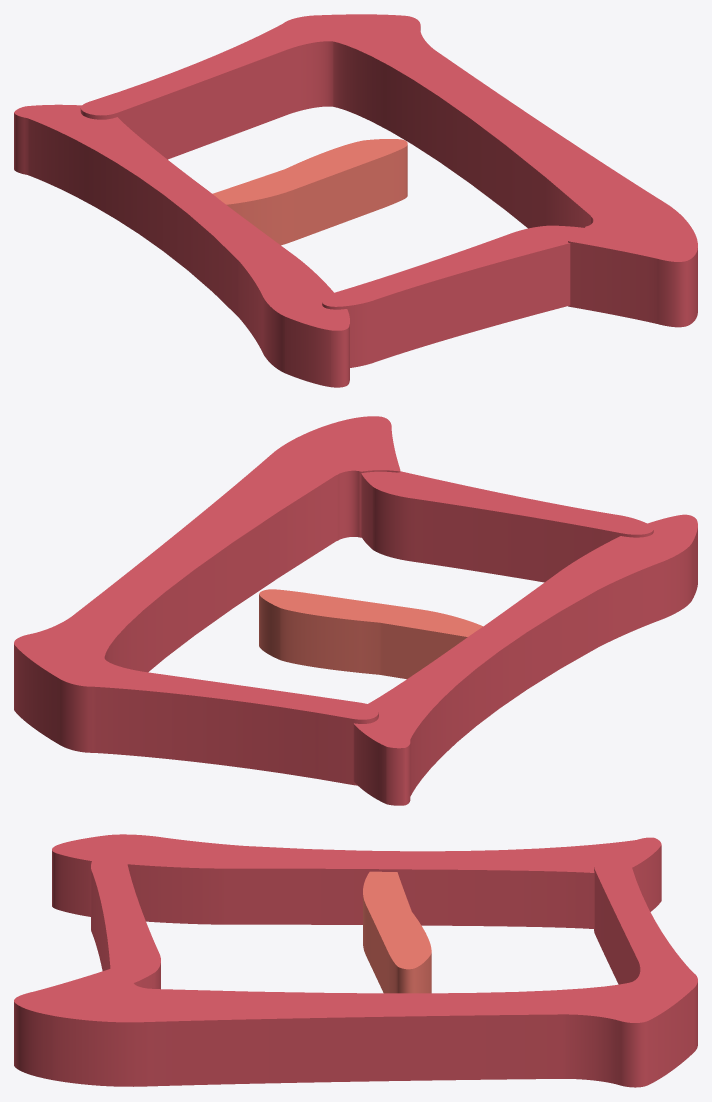
The model's file is hanzi160.fbx.
3 views of the same model, one above another, from view 1: azimuth 30°, elevation 25°; view 2: azimuth 150°, elevation 25°; view 3: azimuth 270°, elevation 25° (orthographic). The views are drawn at different scales.
Visible parts, largest first — view 1: Curve.001, Curve, Curve.003, Curve.002; view 2: Curve.001, Curve, Curve.003, Curve.002; view 3: Curve.001, Curve, Curve.002, Curve.003.
Boxes of the visible parts, left/top/right/bottom form: Curve.001: left=80, top=14, right=697, bottom=327; Curve: left=14, top=104, right=349, bottom=387; Curve.003: left=322, top=225, right=584, bottom=367; Curve.002: left=212, top=139, right=407, bottom=245; Curve.001: left=14, top=416, right=400, bottom=785; Curve: left=353, top=514, right=697, bottom=805; Curve.003: left=361, top=471, right=653, bottom=582; Curve.002: left=259, top=589, right=482, bottom=679; Curve.001: left=14, top=857, right=697, bottom=1087; Curve: left=52, top=834, right=661, bottom=928; Curve.002: left=363, top=871, right=431, bottom=993; Curve.003: left=91, top=851, right=160, bottom=989.
Size of the model in its own units: 13.46 by 20.18 by 2.1.
